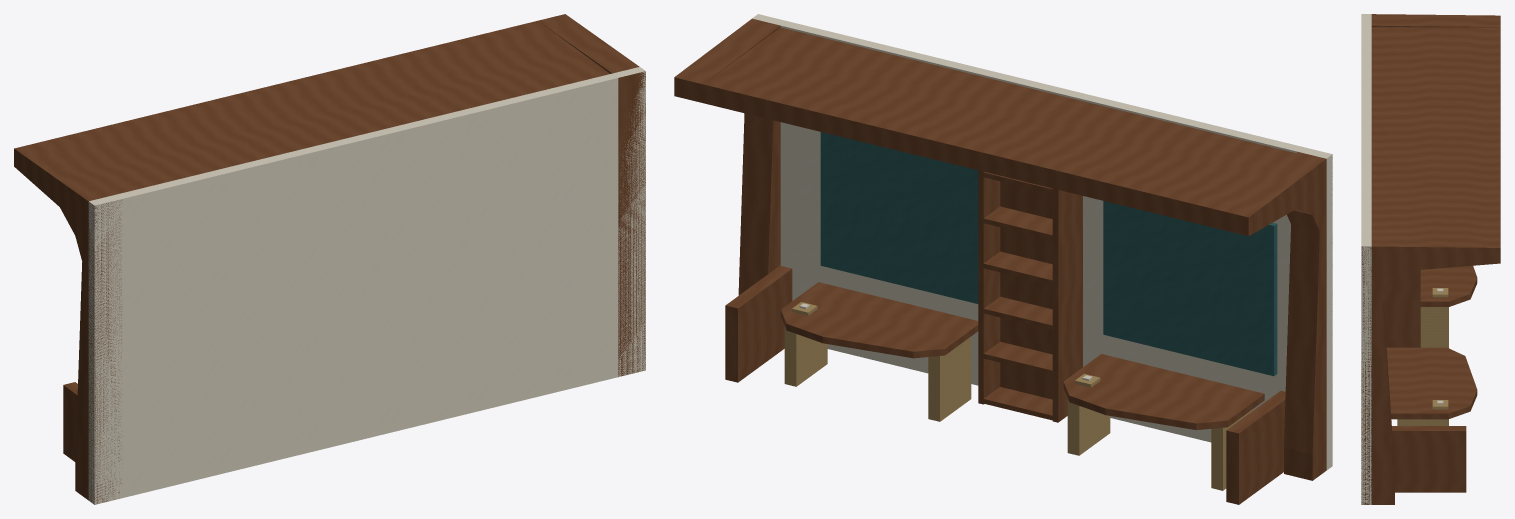
Rendered from AST-RES-002.glb.
3 renders of one model, left to right at view 1: azimuth 30°, elevation 25°; view 2: azimuth 150°, elevation 25°; view 3: azimuth 270°, elevation 25°, orthographic. The views are drawn at different scales.
Parts seen in each view (by area): view 1: READ_Back, READ_Canopy, READ_RolledPortal_0, READ_RolledPortal_1, READ_LowReturn; view 2: READ_Canopy, READ_Back, READ_TextileBack_0, READ_TextileBack_1, READ_RolledPortal_0, READ_RolledPortal_1, READ_Desk_0, READ_Desk_1, READ_ShelfBack, READ_ShelfSide_2.66, READ_LowReturnOther, READ_LowReturn (+10 smaller); view 3: READ_Canopy, READ_RolledPortal_1, READ_Desk_1, READ_Back, READ_LowReturnOther, READ_ShelfSide_3.49, READ_Desk_0, READ_RolledPortal_0, READ_DeskBearing_0_1, READ_ShelfBack, READ_DeskBearing_1_1.
Boxes of the visible parts, x1=… form: READ_Back: x1=88, y1=67, x2=645, y2=504; READ_Canopy: x1=42, y1=20, x2=609, y2=194; READ_RolledPortal_0: x1=14, y1=142, x2=122, y2=504; READ_RolledPortal_1: x1=538, y1=14, x2=645, y2=376; READ_LowReturn: x1=63, y1=382, x2=77, y2=461; READ_Canopy: x1=703, y1=27, x2=1295, y2=229; READ_Back: x1=752, y1=14, x2=1332, y2=470; READ_TextileBack_0: x1=1103, y1=201, x2=1277, y2=376; READ_TextileBack_1: x1=820, y1=132, x2=978, y2=303; READ_RolledPortal_0: x1=1220, y1=152, x2=1332, y2=480; READ_RolledPortal_1: x1=674, y1=18, x2=780, y2=295; READ_Desk_0: x1=1063, y1=354, x2=1264, y2=430; READ_Desk_1: x1=780, y1=282, x2=978, y2=358; READ_ShelfBack: x1=1000, y1=181, x2=1082, y2=399; READ_ShelfSide_2.66: x1=1052, y1=188, x2=1082, y2=422; READ_LowReturnOther: x1=725, y1=265, x2=792, y2=382; READ_LowReturn: x1=1226, y1=390, x2=1285, y2=504; READ_Canopy: x1=1371, y1=27, x2=1500, y2=236; READ_RolledPortal_1: x1=1361, y1=235, x2=1500, y2=504; READ_Desk_1: x1=1386, y1=347, x2=1477, y2=419; READ_Back: x1=1361, y1=14, x2=1371, y2=504; READ_LowReturnOther: x1=1392, y1=426, x2=1466, y2=492; READ_ShelfSide_3.49: x1=1383, y1=270, x2=1420, y2=347; READ_Desk_0: x1=1420, y1=265, x2=1477, y2=306; READ_RolledPortal_0: x1=1371, y1=14, x2=1500, y2=27; READ_DeskBearing_0_1: x1=1420, y1=307, x2=1448, y2=348; READ_ShelfBack: x1=1383, y1=287, x2=1393, y2=347; READ_DeskBearing_1_1: x1=1397, y1=419, x2=1448, y2=425.
Size of the model in its own units: 6.4 by 3.32 by 1.62.
Materials: 6 (5 with a texture image).
